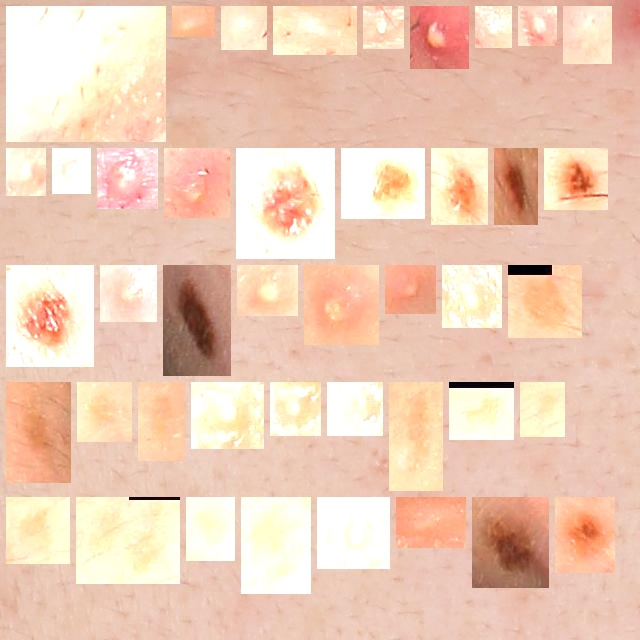hypertrophic_scar: (14, 14, 158, 134), (281, 14, 349, 47), (404, 505, 458, 540), (571, 14, 604, 56), (229, 14, 259, 42), (180, 14, 207, 29)
melasma: (84, 505, 172, 576), (249, 505, 303, 586), (14, 390, 63, 475), (397, 390, 435, 483), (516, 273, 574, 330), (14, 505, 62, 556), (457, 390, 506, 432), (146, 390, 177, 453), (85, 390, 124, 434), (194, 505, 227, 553), (528, 390, 557, 429)
nevus: (244, 156, 327, 251), (14, 273, 86, 359), (171, 273, 223, 368), (480, 505, 541, 580), (349, 156, 417, 211), (563, 505, 607, 565), (439, 156, 480, 217), (552, 156, 600, 202), (502, 156, 530, 217)
pustule: (312, 273, 371, 337), (325, 505, 382, 561), (199, 390, 256, 441), (172, 156, 222, 210), (450, 273, 494, 320), (105, 156, 150, 201), (418, 14, 461, 61), (108, 273, 149, 314), (245, 273, 290, 308), (335, 390, 375, 428), (278, 390, 313, 428), (393, 273, 428, 306), (14, 156, 38, 188), (60, 156, 83, 186), (371, 14, 396, 41), (526, 14, 549, 38), (483, 14, 504, 40)
